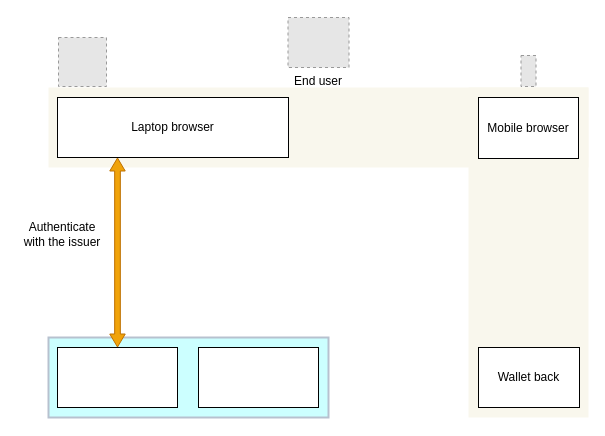
Some shapes in this 605 by 436 pixel diagram are drawn without their labels. Grey dashed boxes stand in for pictures. Here are the shapes that lost their labels. From the top down, the centre of each, then its label:
At point 117,377: "Authorisation server".
At point 258,377: "Issuer back".
